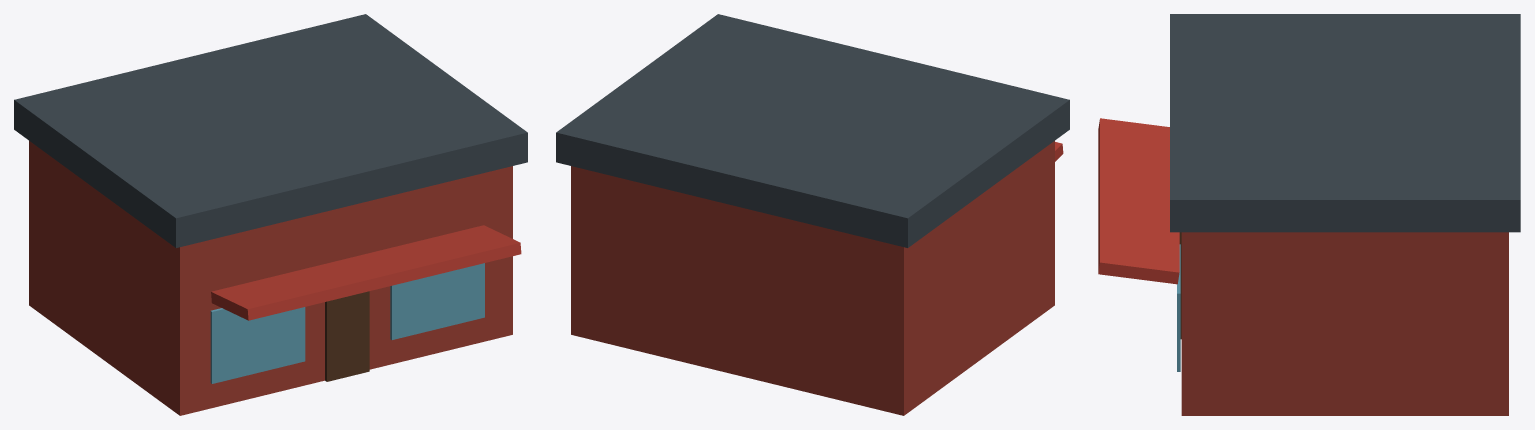
File: shop.obj
The picture shows the model from 3 angles, left to right: view 1: azimuth 30°, elevation 25°; view 2: azimuth 150°, elevation 25°; view 3: azimuth 270°, elevation 25°; orthographic projection. The views are drawn at different scales.
Visible parts, largest first — view 1: Cube; view 2: Cube; view 3: Cube.
Boxes of the visible parts, x1,y1,x2,y2 form: Cube: [14, 14, 527, 415]; Cube: [556, 14, 1069, 415]; Cube: [1098, 14, 1520, 415].
Size of the model in its own units: 7.4 by 4.1 by 7.1.
